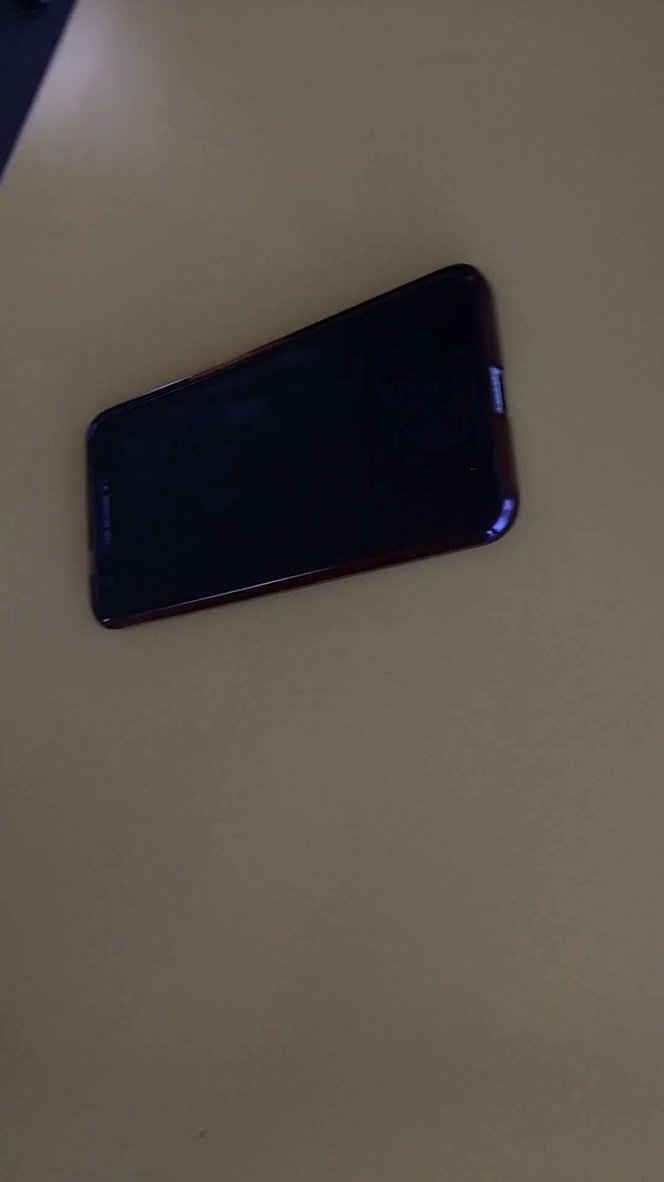phone: (74, 253, 529, 642)
